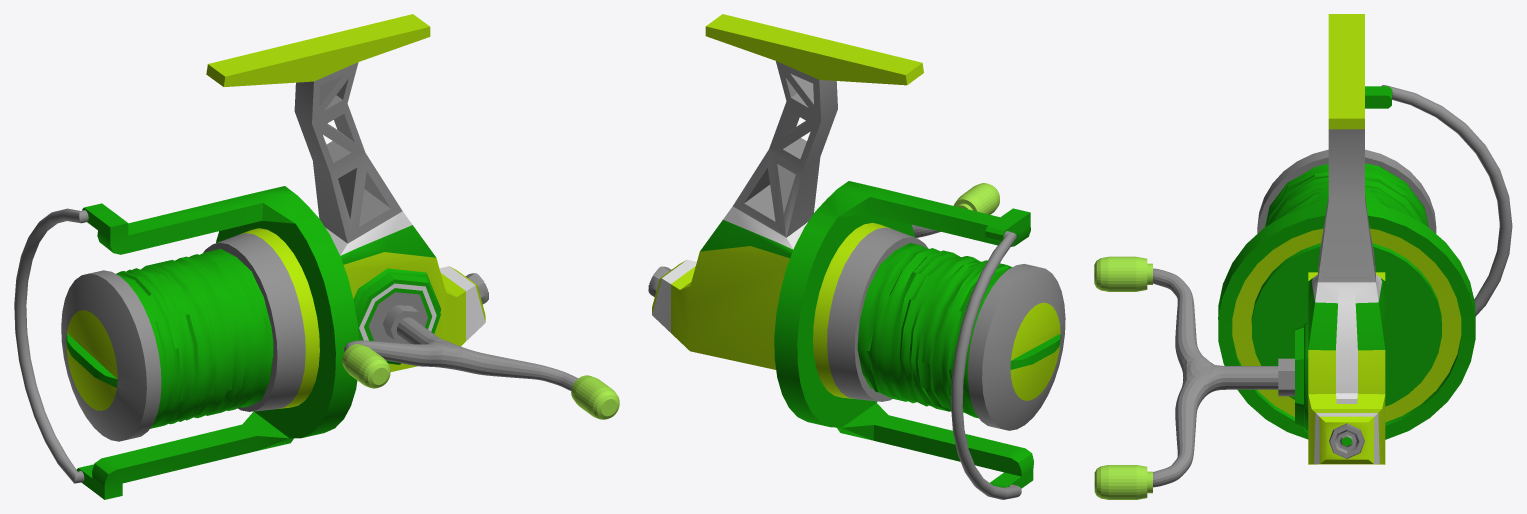
Rendered from kolowrotek tier 5.fbx.
The picture shows the model from 3 angles, left to right: view 1: azimuth 30°, elevation 25°; view 2: azimuth 150°, elevation 25°; view 3: azimuth 270°, elevation 25°; orthographic projection. The views are drawn at different scales.
Visible parts, largest first — view 1: rel tier 5, Cube.018, Cube.016, Plane; view 2: rel tier 5, Cube.018, Cube.016, Plane; view 3: Cube.018, rel tier 5, Plane, Cube.016.
Boxes of the visible parts, left/top/right/bottom form: rel tier 5: left=61, top=14, right=488, bottom=441; Cube.018: left=14, top=186, right=358, bottom=499; Cube.016: left=116, top=248, right=273, bottom=428; Plane: left=342, top=317, right=619, bottom=419; rel tier 5: left=648, top=14, right=1065, bottom=430; Cube.018: left=774, top=181, right=1033, bottom=499; Cube.016: left=857, top=243, right=1012, bottom=418; Plane: left=912, top=183, right=999, bottom=237; Cube.018: left=1218, top=85, right=1512, bottom=439; rel tier 5: left=1257, top=14, right=1436, bottom=464; Plane: left=1094, top=256, right=1278, bottom=499; Cube.016: left=1265, top=163, right=1428, bottom=226.
Size of the model in its own units: 2624 by 2374 by 2165.
